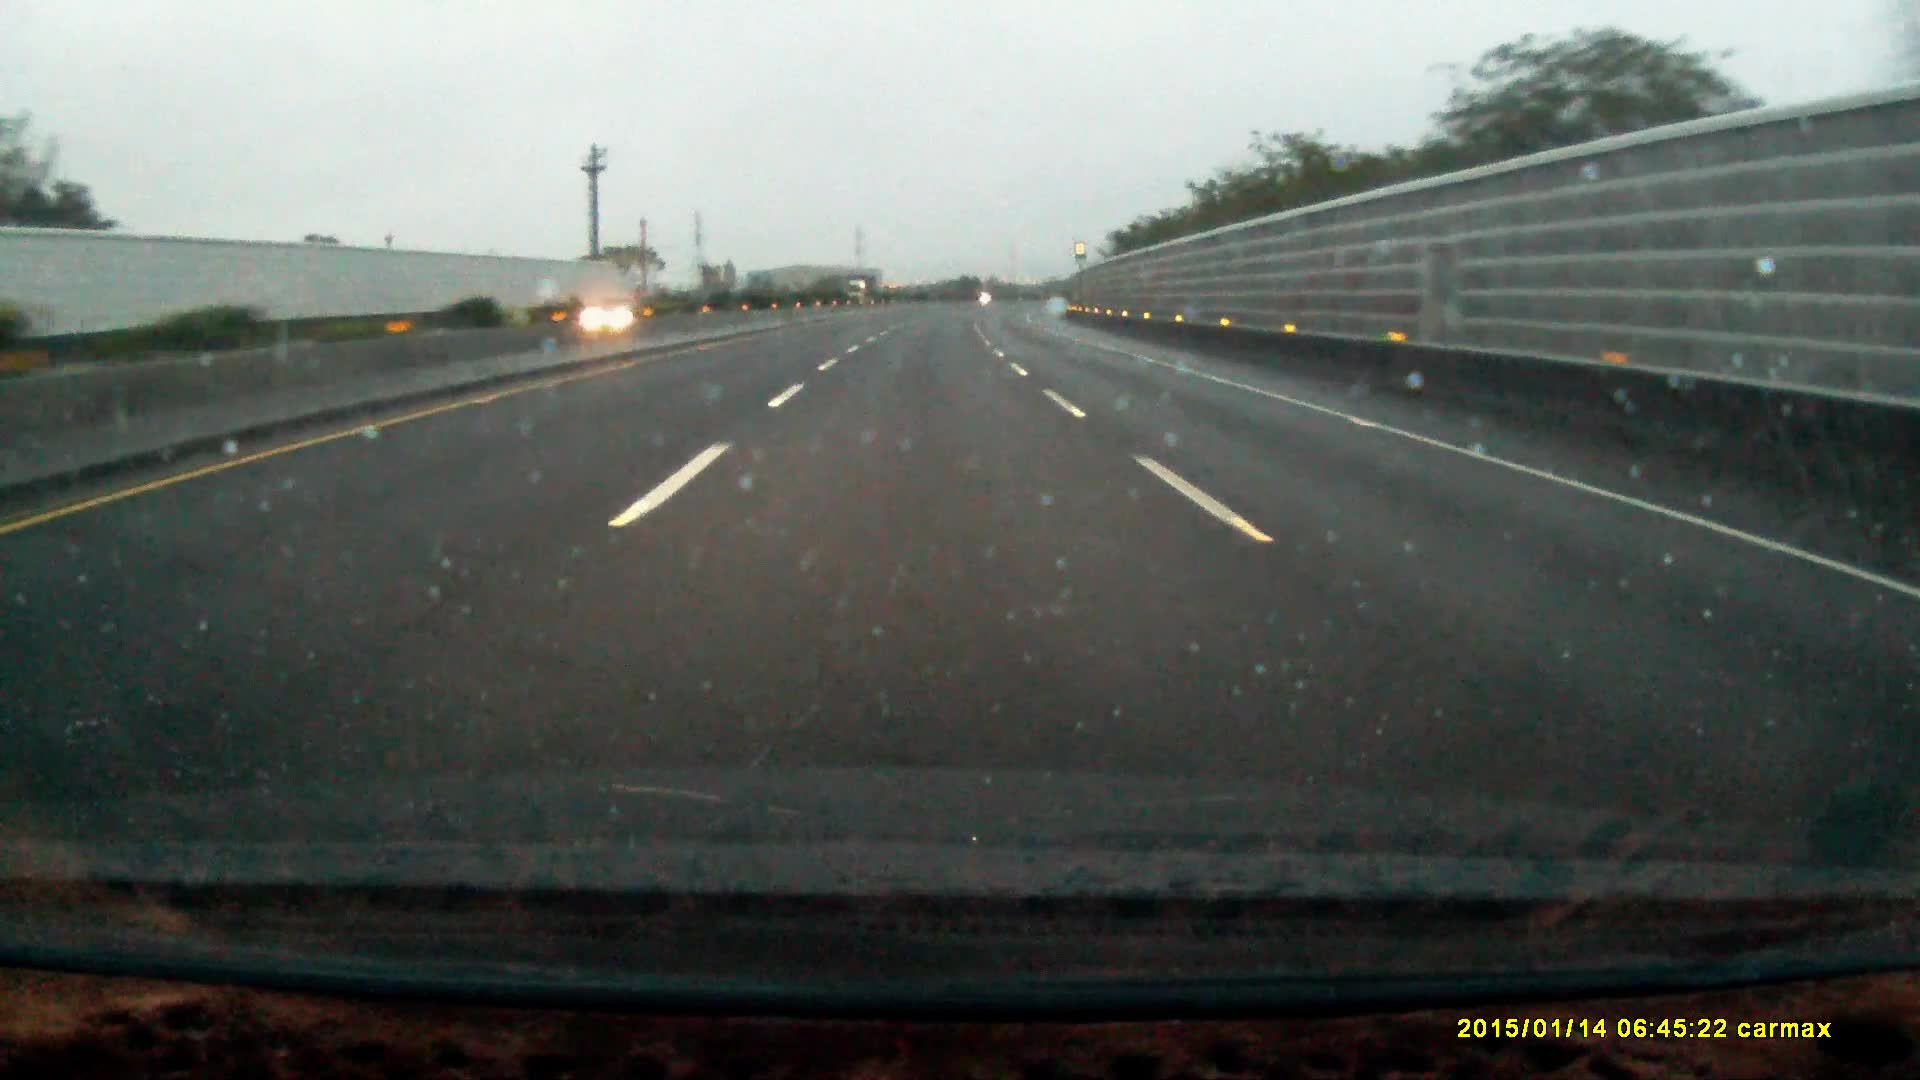vehicle: (580, 298, 655, 339), (847, 277, 880, 305)
